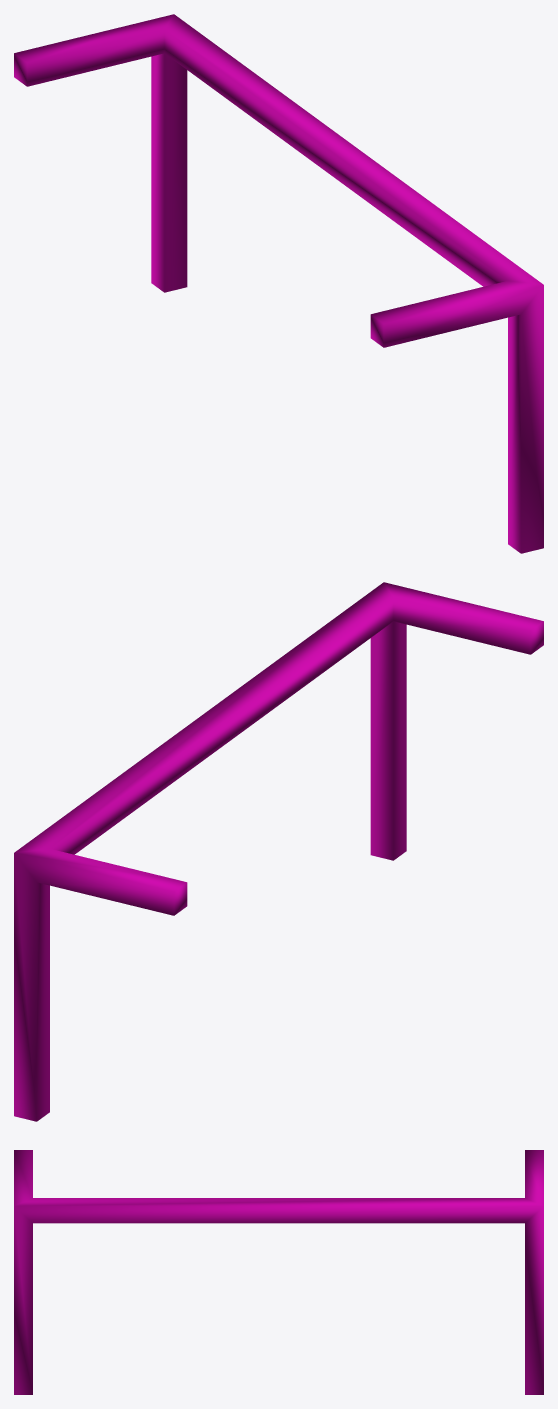
The model's file is Goalsopponentback.dae.
3 renders of one model, top to bottom at view 1: azimuth 30°, elevation 25°; view 2: azimuth 150°, elevation 25°; view 3: azimuth 270°, elevation 25°, orthographic. The views are drawn at different scales.
Visible parts, largest first — view 1: visual_0_field_1_8; view 2: visual_0_field_1_8; view 3: visual_0_field_1_8.
Boxes of the visible parts, box(x1,y1,x2,y2) form: visual_0_field_1_8: box(14, 14, 543, 553); visual_0_field_1_8: box(14, 582, 543, 1121); visual_0_field_1_8: box(14, 1150, 543, 1394).
Size of the model in its own units: 0.7 by 2.8 by 1.1.
